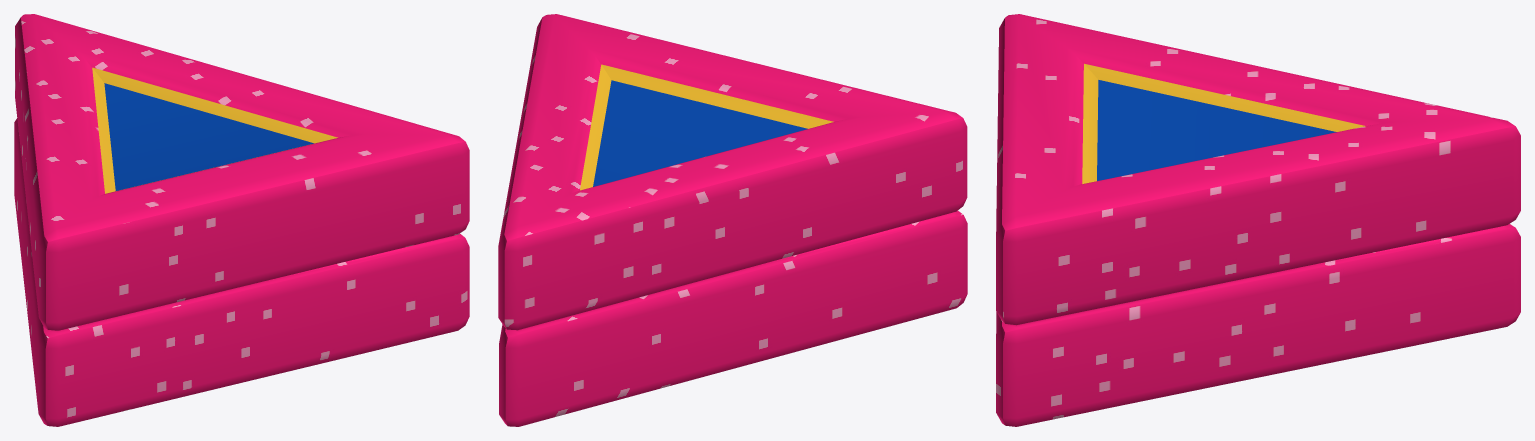
File: PLF0110054.fbx
The picture shows the model from 3 angles, left to right: view 1: azimuth 30°, elevation 25°; view 2: azimuth 150°, elevation 25°; view 3: azimuth 270°, elevation 25°; orthographic projection. The views are drawn at different scales.
Parts seen in each view (by area): view 1: smPLF0110054; view 2: smPLF0110054; view 3: smPLF0110054.
Part boxes in pixels (<box>): smPLF0110054: <box>14,14,469,426</box>; smPLF0110054: <box>498,14,967,426</box>; smPLF0110054: <box>996,14,1520,426</box>.
Bounding box in the file's own units: 179 × 79.28 × 181.
Materials: 1 (1 with a texture image).
